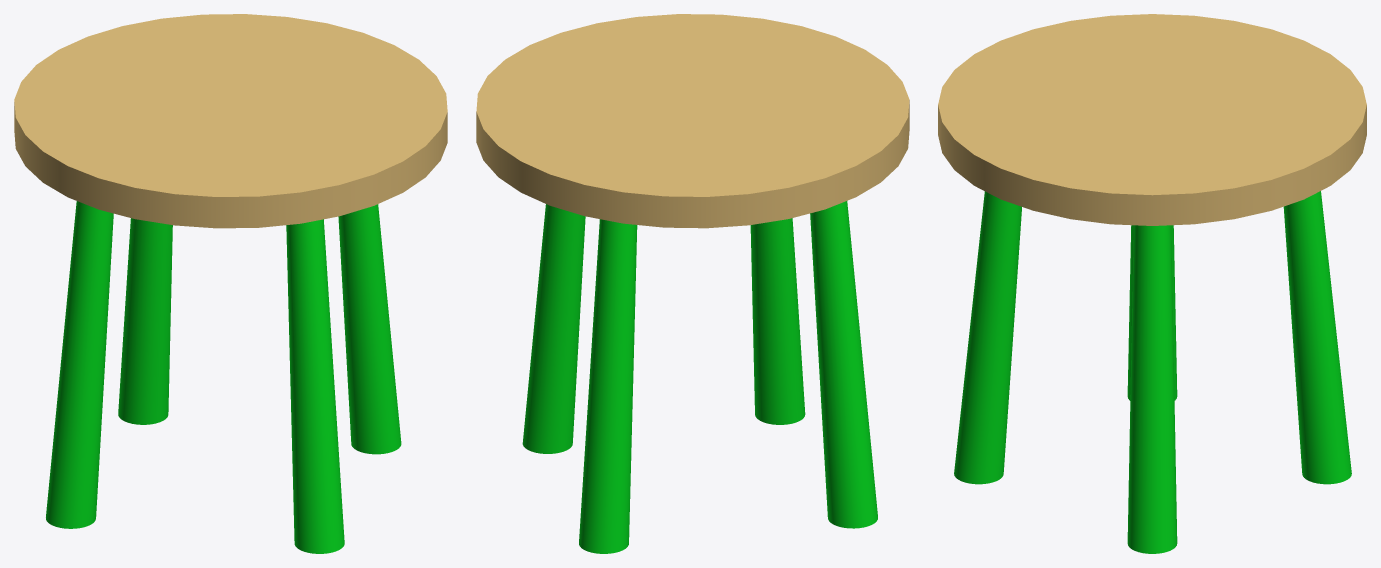
File: Chair.fbx
3 views of the same model, side by side, from view 1: azimuth 30°, elevation 25°; view 2: azimuth 150°, elevation 25°; view 3: azimuth 270°, elevation 25° (orthographic).
Visible parts, largest first — view 1: Cylinder.002; view 2: Cylinder.002; view 3: Cylinder.002.
Part boxes in pixels (x1,y1,x2,y2): Cylinder.002: (14, 14, 447, 553); Cylinder.002: (476, 14, 909, 553); Cylinder.002: (938, 14, 1366, 553).
Size of the model in its own units: 12 by 11.39 by 12.
